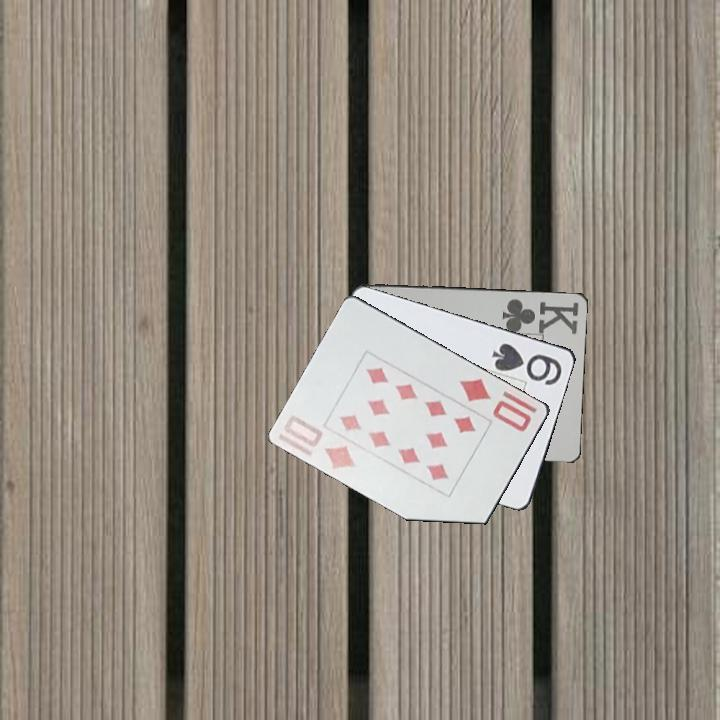6s: (488, 339, 565, 388)
Kc: (496, 295, 582, 335)
Td: (280, 411, 360, 472), (456, 375, 535, 435)
